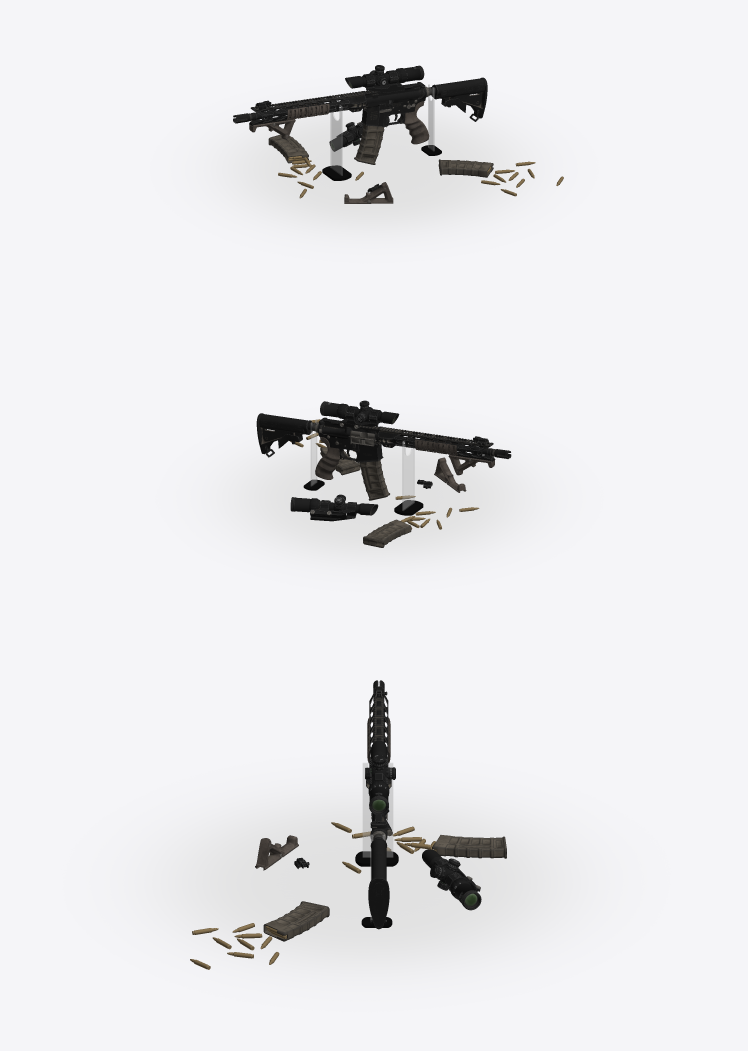
3 renders of one model, top to bottom at view 1: azimuth 30°, elevation 25°; view 2: azimuth 150°, elevation 25°; view 3: azimuth 270°, elevation 25°, orthographic. The views are drawn at different scales.
Visible parts, largest first — view 1: Plane001, ar114Fifteen_low_Base and Stock_0, Handguard_Handguard_0, Scope_Scope Handle Mag_0, ar117Fifteen_low_Base and Stock_0, mag_Scope Handle Mag_0, mag001_Scope Handle Mag_0, Plane002, mag002_Scope Handle Mag_0, grip_Scope Handle Mag_0, Scope001_Scope Handle Mag_0, handle001_Scope Handle Mag_0; view 2: Plane001, ar114Fifteen_low_Base and Stock_0, Handguard_Handguard_0, Scope001_Scope Handle Mag_0, Scope_Scope Handle Mag_0, ar117Fifteen_low_Base and Stock_0, mag_Scope Handle Mag_0, mag002_Scope Handle Mag_0, Plane002, grip_Scope Handle Mag_0; view 3: Plane001, Scope001_Scope Handle Mag_0, ar117Fifteen_low_Base and Stock_0, Scope_Scope Handle Mag_0, mag002_Scope Handle Mag_0, mag001_Scope Handle Mag_0, Handguard_Handguard_0, Plane002, handle001_Scope Handle Mag_0.
Boxes of the visible parts, <box> form: Plane001: <box>190,92,558,246</box>; ar114Fifteen_low_Base and Stock_0: <box>233,83,426,127</box>; Handguard_Handguard_0: <box>249,91,366,126</box>; Scope_Scope Handle Mag_0: <box>345,65,424,92</box>; ar117Fifteen_low_Base and Stock_0: <box>425,77,487,118</box>; mag_Scope Handle Mag_0: <box>354,124,384,164</box>; mag001_Scope Handle Mag_0: <box>438,159,493,177</box>; Plane002: <box>330,105,342,175</box>; mag002_Scope Handle Mag_0: <box>268,134,308,163</box>; grip_Scope Handle Mag_0: <box>404,101,429,144</box>; Scope001_Scope Handle Mag_0: <box>329,116,389,151</box>; handle001_Scope Handle Mag_0: <box>344,182,393,203</box>; Plane001: <box>195,421,563,575</box>; ar114Fifteen_low_Base and Stock_0: <box>317,418,511,462</box>; Handguard_Handguard_0: <box>378,426,494,461</box>; Scope001_Scope Handle Mag_0: <box>290,494,378,521</box>; Scope_Scope Handle Mag_0: <box>320,400,399,428</box>; ar117Fifteen_low_Base and Stock_0: <box>256,413,318,454</box>; mag_Scope Handle Mag_0: <box>360,460,389,500</box>; mag002_Scope Handle Mag_0: <box>363,519,411,547</box>; Plane002: <box>402,441,414,510</box>; grip_Scope Handle Mag_0: <box>315,437,339,479</box>; Plane001: <box>115,776,617,989</box>; Scope001_Scope Handle Mag_0: <box>422,849,481,910</box>; ar117Fifteen_low_Base and Stock_0: <box>368,831,389,929</box>; Scope_Scope Handle Mag_0: <box>365,740,395,815</box>; mag002_Scope Handle Mag_0: <box>432,835,506,858</box>; mag001_Scope Handle Mag_0: <box>263,901,329,941</box>; Handguard_Handguard_0: <box>366,687,391,788</box>; Plane002: <box>363,763,392,857</box>; handle001_Scope Handle Mag_0: <box>255,835,298,870</box>.
Size of what is drawn, in the model's own units: 2.3 by 0.4679 by 2.3.
Materials: 6 (4 with a texture image).
